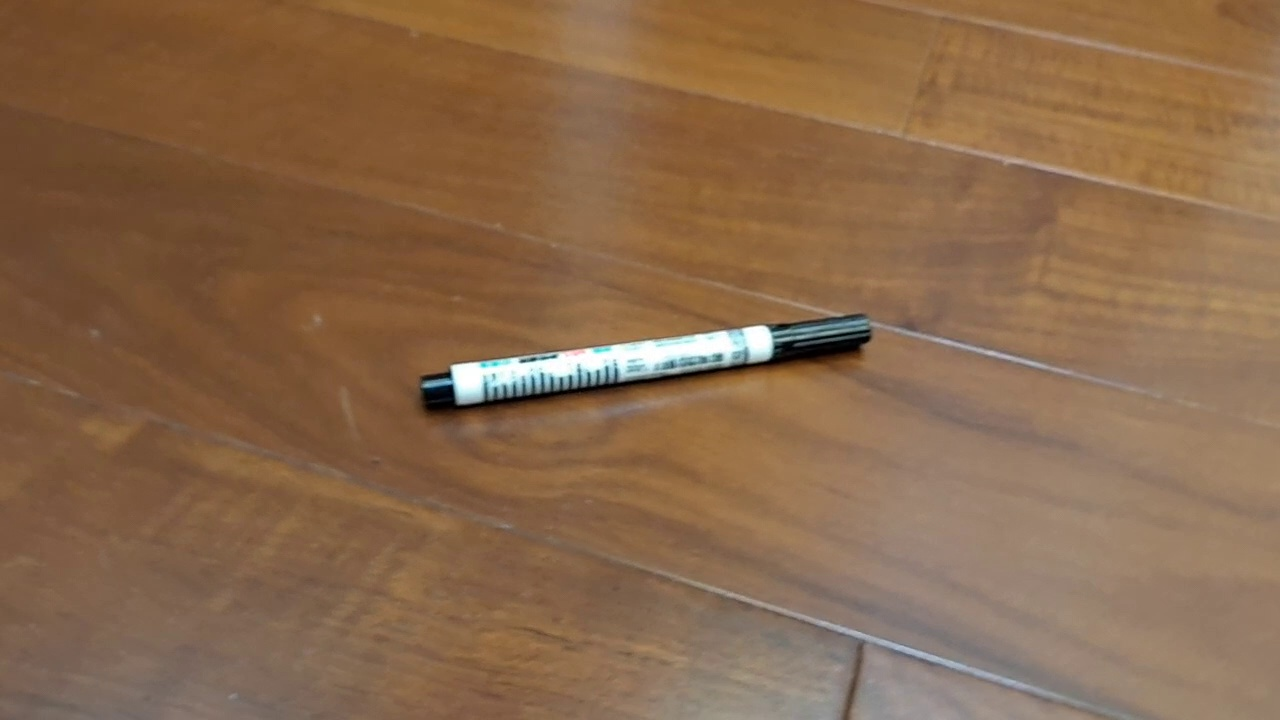pen: (418, 313, 873, 412)
